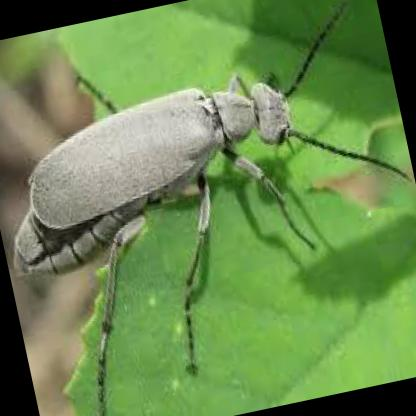blister beetle: (12, 13, 405, 365)
